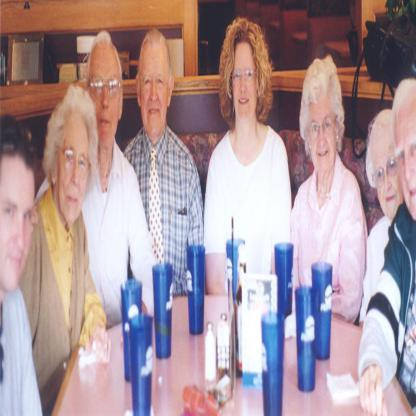face: (1, 158, 35, 292), (58, 113, 89, 223), (90, 41, 120, 145), (140, 43, 169, 135), (394, 100, 416, 221), (372, 128, 401, 219), (232, 46, 258, 124), (310, 97, 337, 168)
